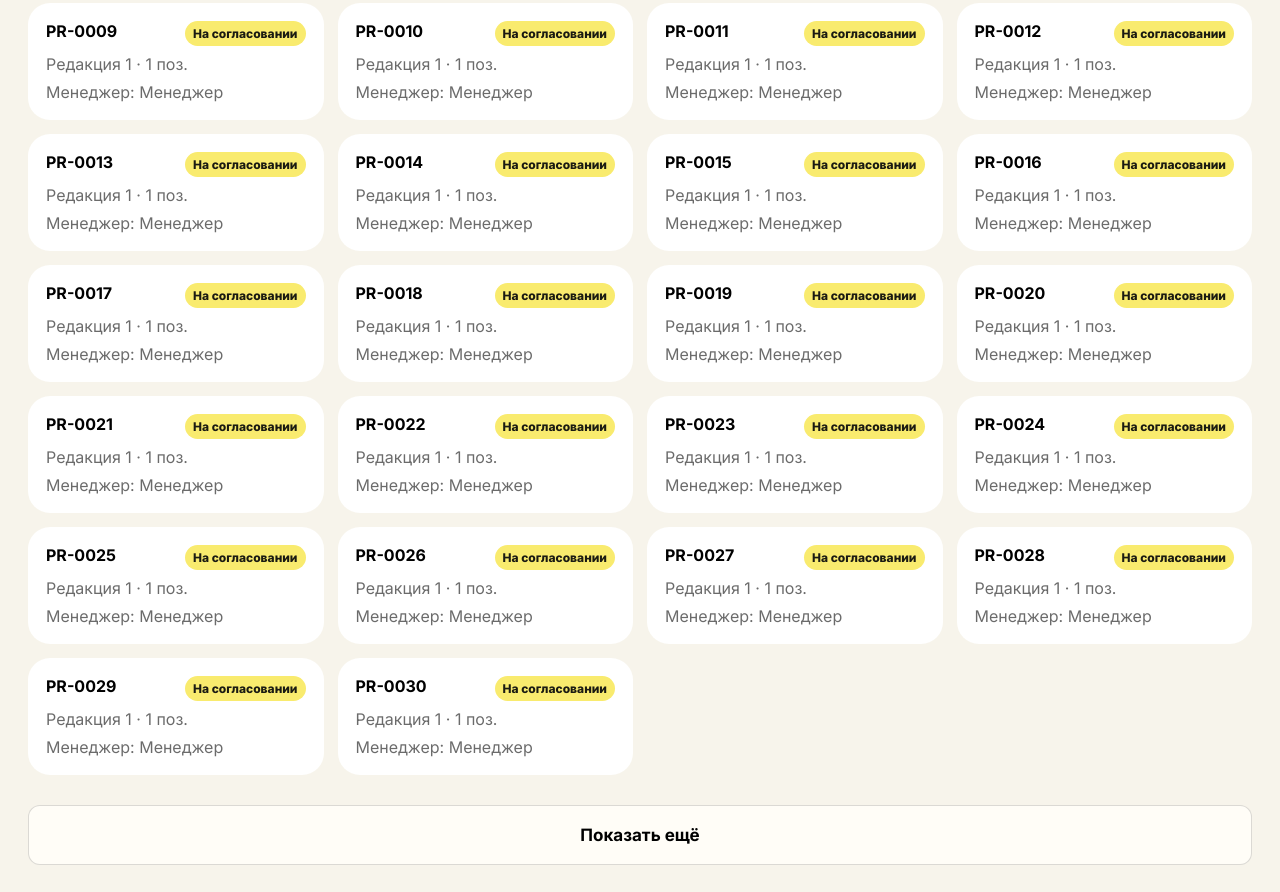
Test: Procurement queue loads requests beyond the first 30 rows
(page scrolled)
Expected: the text "PR-0030" is shown, x1=356 y1=676 x2=427 y2=696
Expected: the text "PR-0031" is not shown
Click the button "Показать ещё": coordinates (640, 835) x1=28 y1=805 x2=1252 y2=865
(page scrolled)
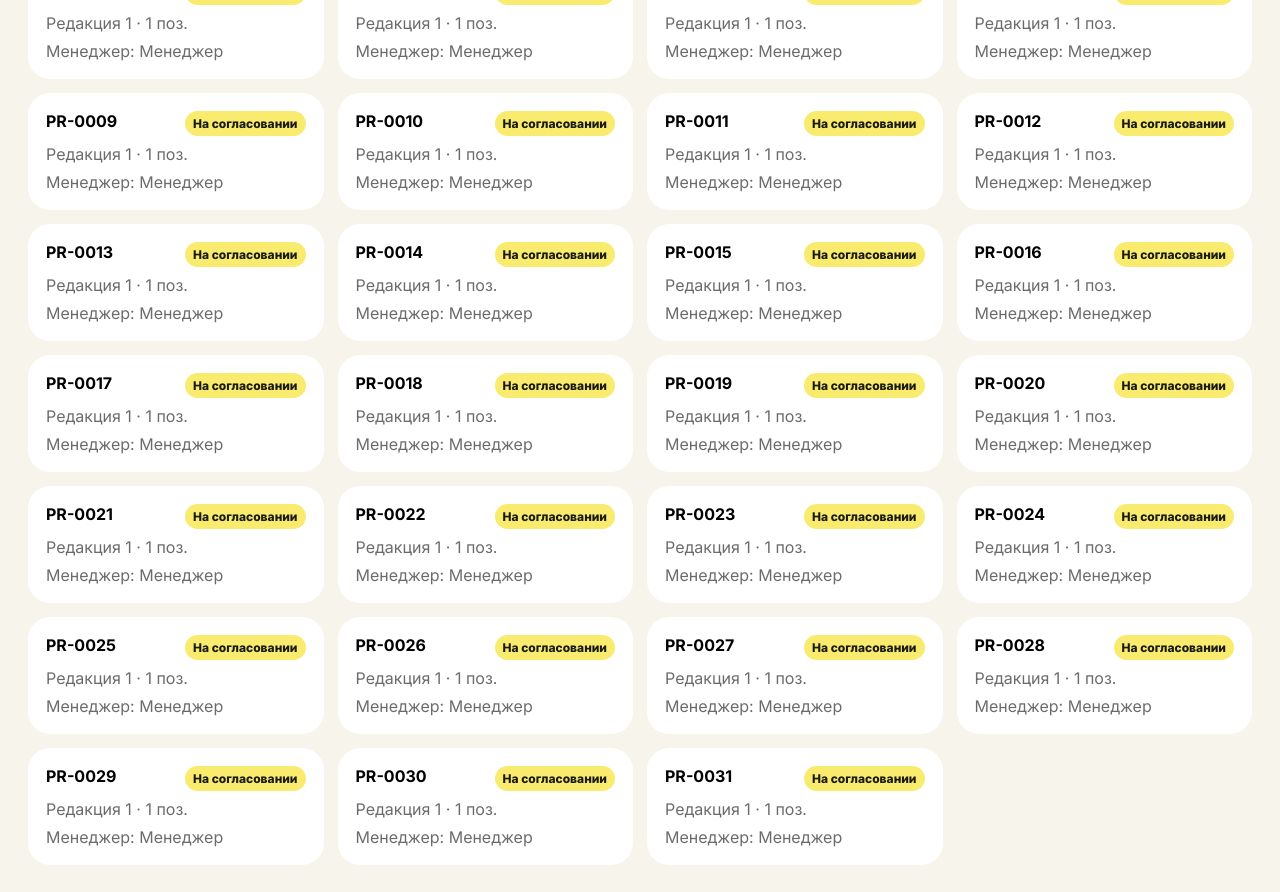
Expected: the text "PR-0031" is shown, x1=665 y1=766 x2=732 y2=786
